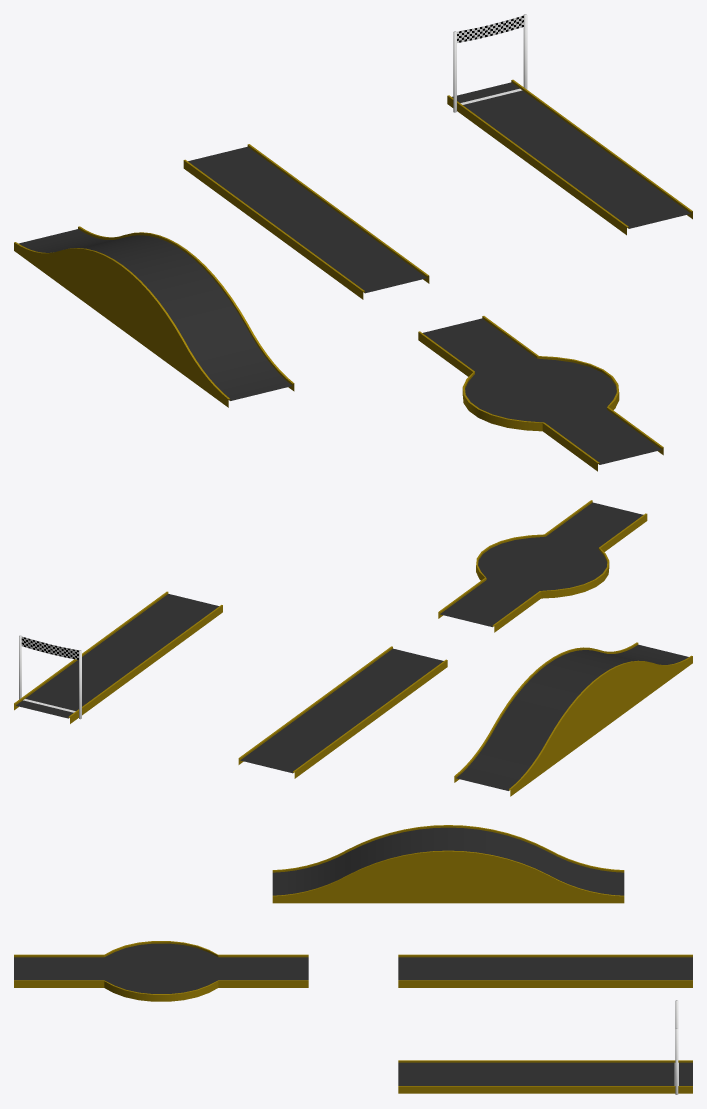
Rendered from TrackParts_Scale50.fbx.
3 renders of one model, top to bottom at view 1: azimuth 30°, elevation 25°; view 2: azimuth 150°, elevation 25°; view 3: azimuth 270°, elevation 25°, orthographic. The views are drawn at different scales.
Parts seen in each view (by area): view 1: Bridge.004, Circle.003, Finish.004, Straight.007, Banner.004; view 2: Bridge.004, Circle.003, Finish.004, Straight.007, Banner.004; view 3: Bridge.004, Circle.003, Finish.004, Straight.007.
Part boxes in pixels (x1=…): Bridge.004: x1=14, y1=226, x2=294, y2=407; Circle.003: x1=418, y1=316, x2=663, y2=471; Finish.004: x1=447, y1=14, x2=692, y2=235; Straight.007: x1=183, y1=144, x2=429, y2=299; Banner.004: x1=457, y1=15, x2=523, y2=42; Bridge.004: x1=454, y1=642, x2=692, y2=796; Circle.003: x1=438, y1=500, x2=647, y2=632; Finish.004: x1=14, y1=591, x2=222, y2=723; Straight.007: x1=238, y1=646, x2=447, y2=778; Banner.004: x1=21, y1=636, x2=78, y2=659; Bridge.004: x1=272, y1=825, x2=624, y2=903; Circle.003: x1=14, y1=941, x2=308, y2=1001; Finish.004: x1=398, y1=1000, x2=692, y2=1094; Straight.007: x1=398, y1=954, x2=692, y2=987.
Bounding box in the file's own units: 8022 × 1121 × 10560.
